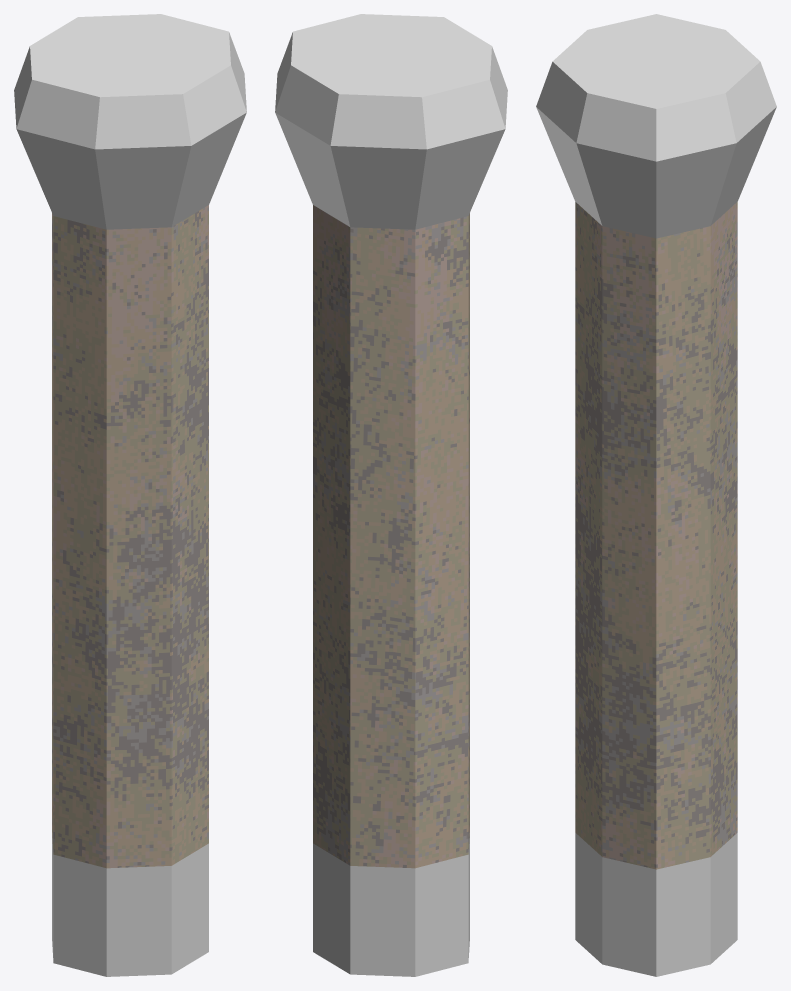
The model's file is CylindricaPillar 1.fbx.
The picture shows the model from 3 angles, left to right: view 1: azimuth 30°, elevation 25°; view 2: azimuth 150°, elevation 25°; view 3: azimuth 270°, elevation 25°; orthographic projection.
Parts seen in each view (by area): view 1: RoundPillar; view 2: RoundPillar; view 3: RoundPillar.
Part boxes in pixels (box(x1,y1,x2,y2)): RoundPillar: box(14, 14, 246, 976); RoundPillar: box(275, 14, 507, 976); RoundPillar: box(536, 14, 776, 976).
Bounding box in the file's own units: 81.54 × 304 × 75.44.
